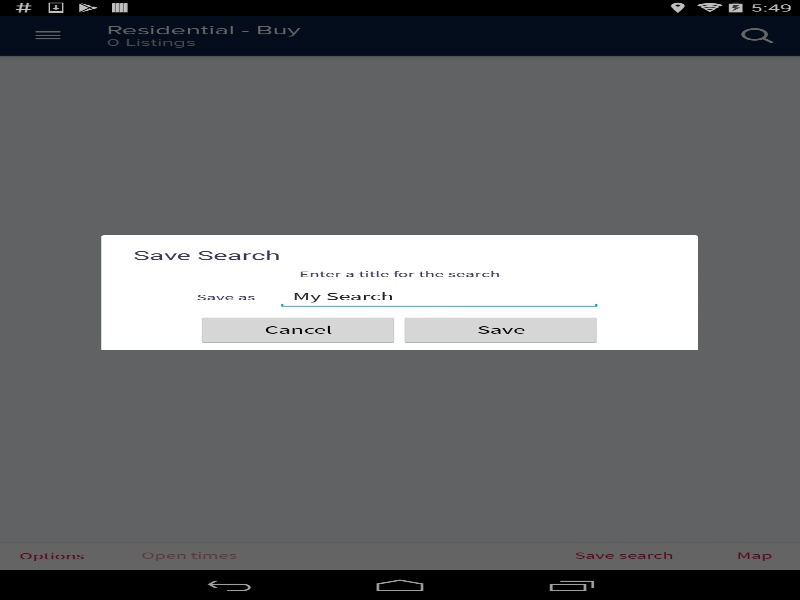Button: (196, 315, 399, 345), (399, 315, 602, 345)
Input: (276, 285, 602, 308)
